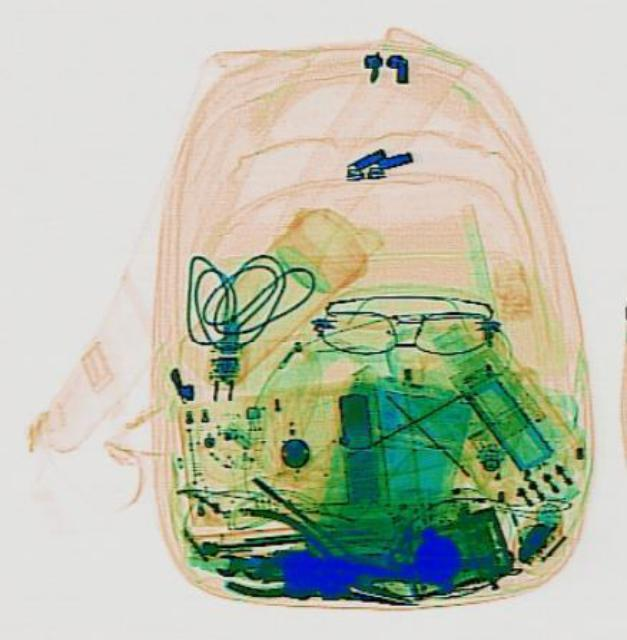Pliers: (218, 499, 425, 636)
Wrench: (211, 551, 324, 585)
